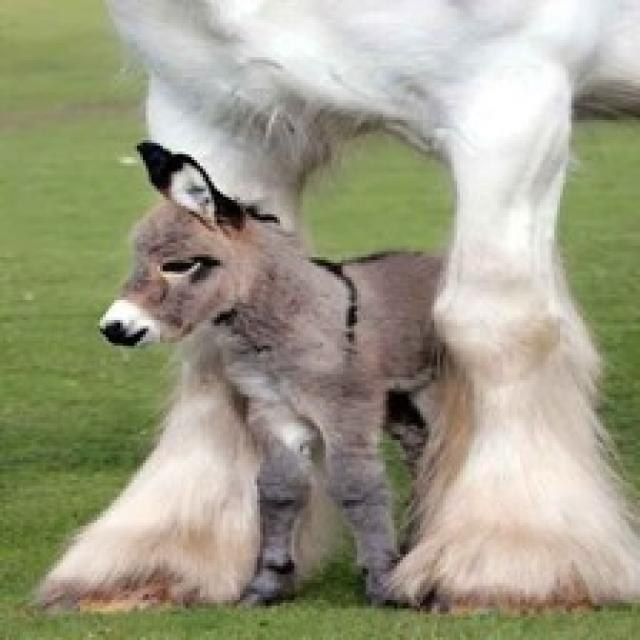Donkey: (74, 100, 512, 620)
